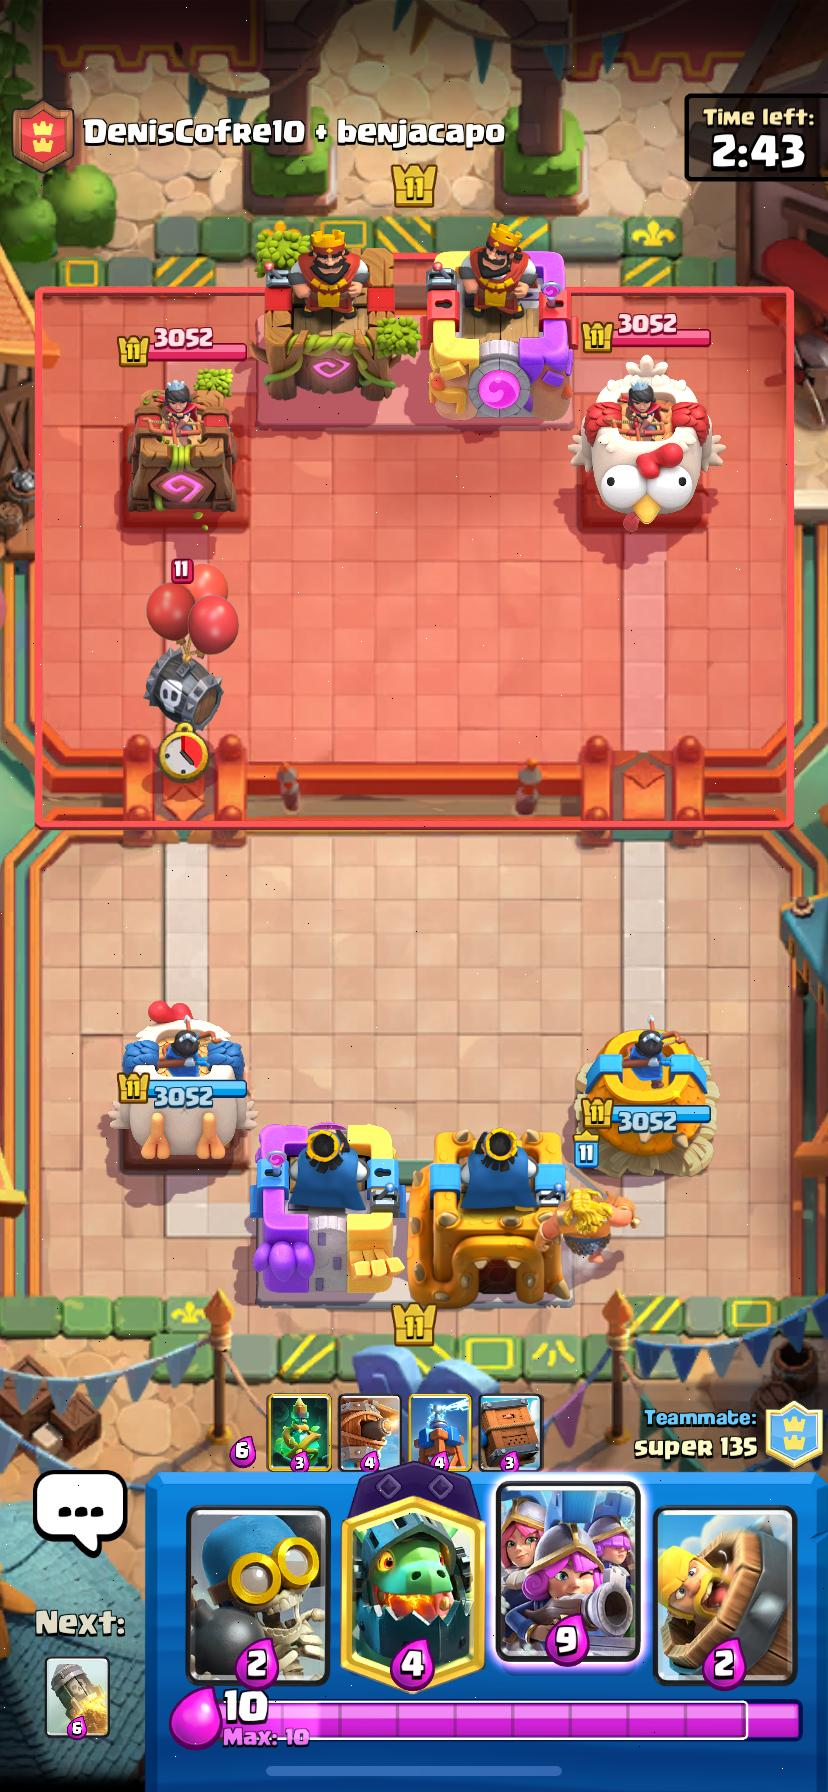EKingTower: (431, 245, 564, 418), (265, 242, 390, 399)
ESkelBarrel: (144, 565, 238, 730)
EnemyPrincessTower: (575, 357, 712, 523), (128, 379, 234, 517)
ORoyalKnight: (557, 1186, 637, 1259)
OwnKingTower: (409, 1127, 570, 1306), (253, 1123, 401, 1301)
OwnPrincessTower: (110, 1003, 254, 1159), (574, 1017, 716, 1175)
